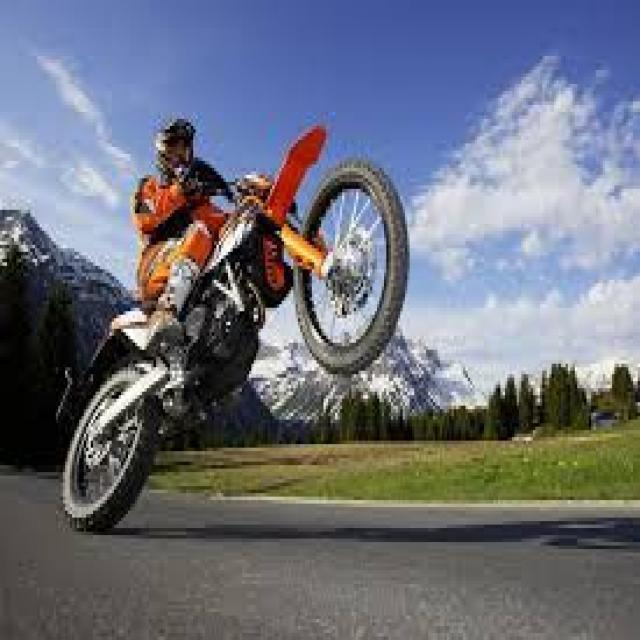Wheeling: (66, 101, 410, 557)
